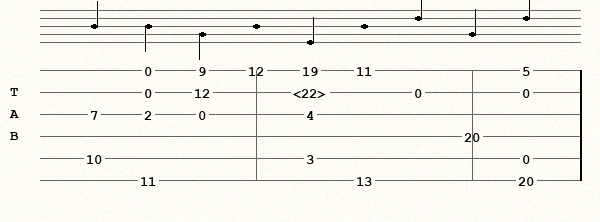0: (144, 86, 156, 99), (144, 64, 156, 77), (198, 108, 210, 121), (414, 86, 426, 99), (522, 152, 534, 165), (522, 86, 534, 99)
10: (86, 152, 106, 165)
11: (140, 174, 160, 187), (356, 64, 376, 77)
12: (194, 86, 214, 99), (248, 64, 268, 77)
13: (356, 174, 376, 187)
19: (302, 64, 322, 77)
2: (144, 108, 156, 121)
20: (464, 130, 484, 143), (518, 174, 538, 187)
3: (306, 152, 318, 165)
4: (306, 108, 318, 121)
5: (522, 64, 534, 77)
7: (90, 108, 102, 121)
9: (198, 64, 210, 77)
harmonic: (293, 86, 331, 99)
